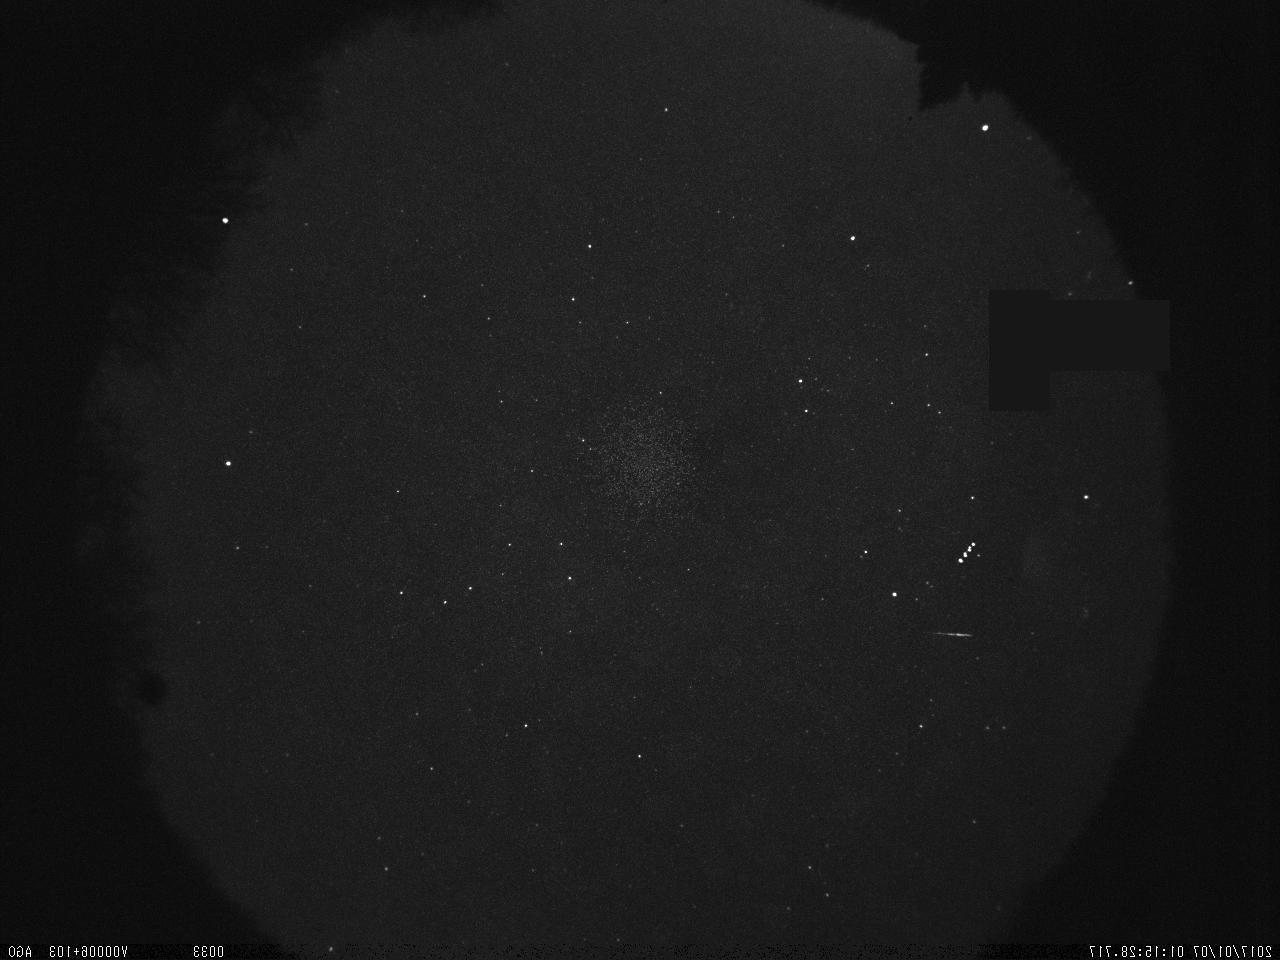meteor: (914, 620, 986, 646)
satelite: (947, 535, 979, 570)
